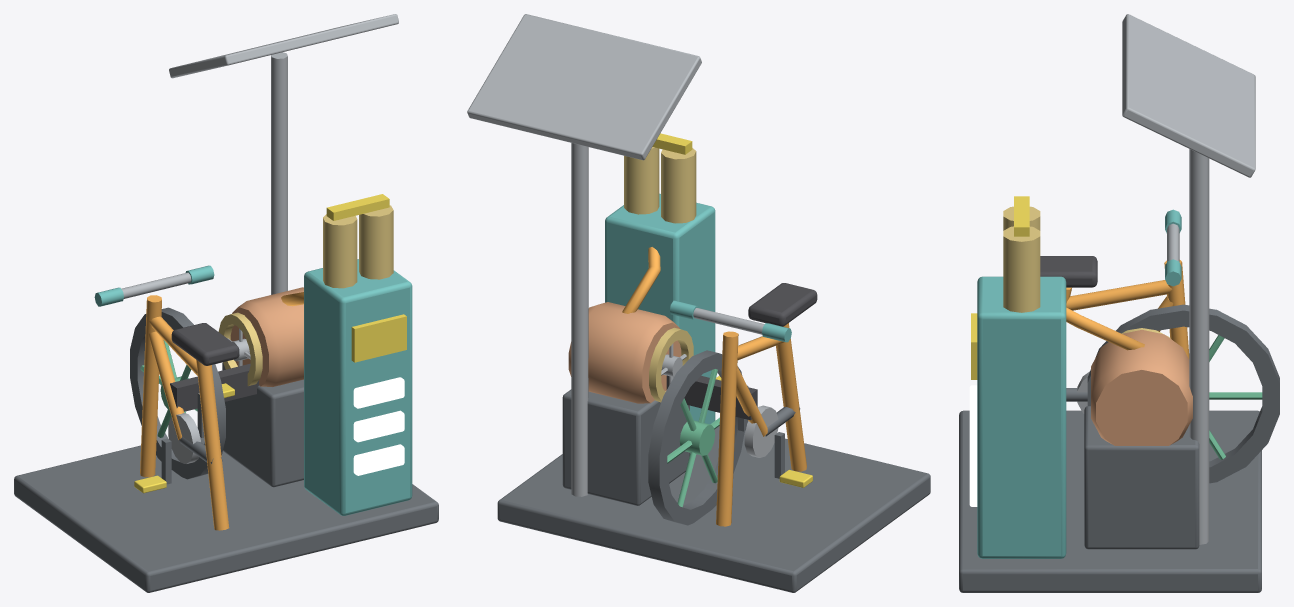
Rendered from machine_pedal_generator.fbx.
3 renders of one model, left to right at view 1: azimuth 30°, elevation 25°; view 2: azimuth 150°, elevation 25°; view 3: azimuth 270°, elevation 25°, orthographic. The views are drawn at different scales.
Visible parts, largest first — view 1: machine_pedal_generator, Upgrade_Lvl1, FlywheelPivot, GlowMesh, PedalPivot, DynamoPivot; view 2: machine_pedal_generator, Upgrade_Lvl1, FlywheelPivot, PedalPivot, DynamoPivot; view 3: machine_pedal_generator, Upgrade_Lvl1, FlywheelPivot, GlowMesh.
Boxes of the visible parts, x1,y1,x2,y2 form: machine_pedal_generator: (14,259,438,592); Upgrade_Lvl1: (169,14,398,294); FlywheelPivot: (130,307,225,479); GlowMesh: (353,377,404,475); PedalPivot: (134,383,234,493); DynamoPivot: (218,312,262,385); machine_pedal_generator: (497,193,930,592); Upgrade_Lvl1: (467,14,701,496); FlywheelPivot: (648,350,744,525); PedalPivot: (716,375,812,487); DynamoPivot: (649,327,693,402); machine_pedal_generator: (959,209,1261,592); Upgrade_Lvl1: (1003,14,1255,544); FlywheelPivot: (1087,304,1279,483); GlowMesh: (969,385,977,506).
Size of the model in its own units: 1.62 by 2.13 by 1.23.
